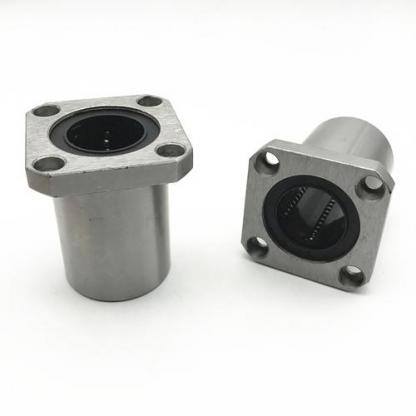FOD: (19, 84, 201, 306), (232, 114, 399, 295)
